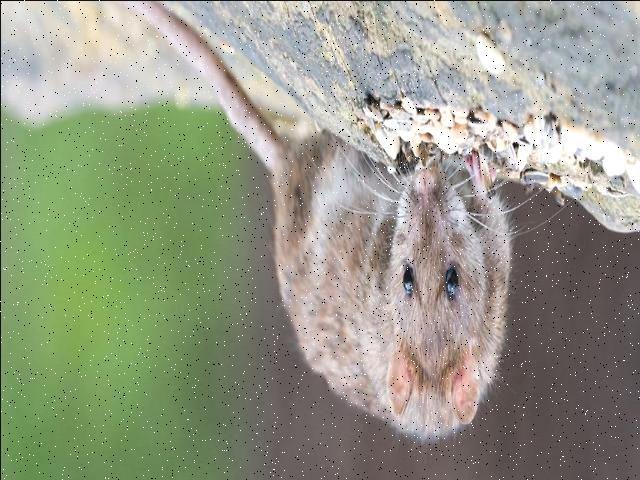Tikus: (250, 110, 520, 447)
